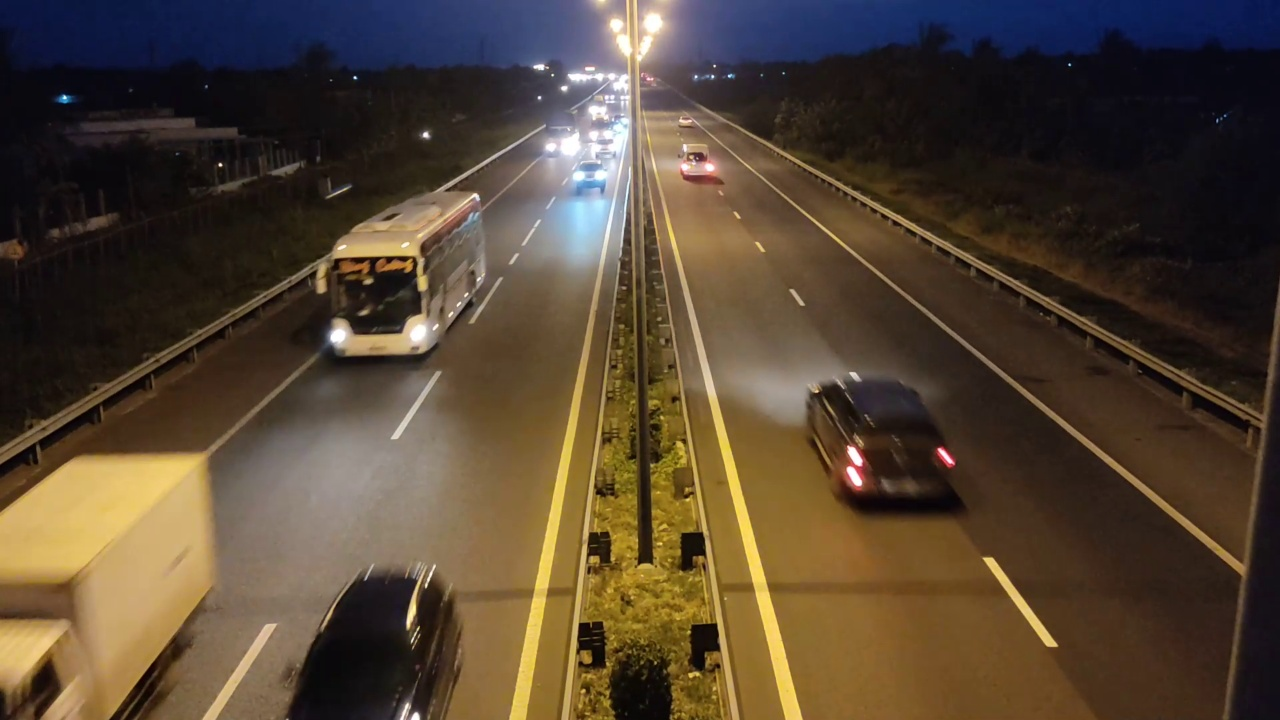bus: (324, 190, 489, 359)
car: (285, 559, 465, 719), (803, 371, 963, 511), (571, 162, 608, 195)
truck: (1, 451, 222, 715)
